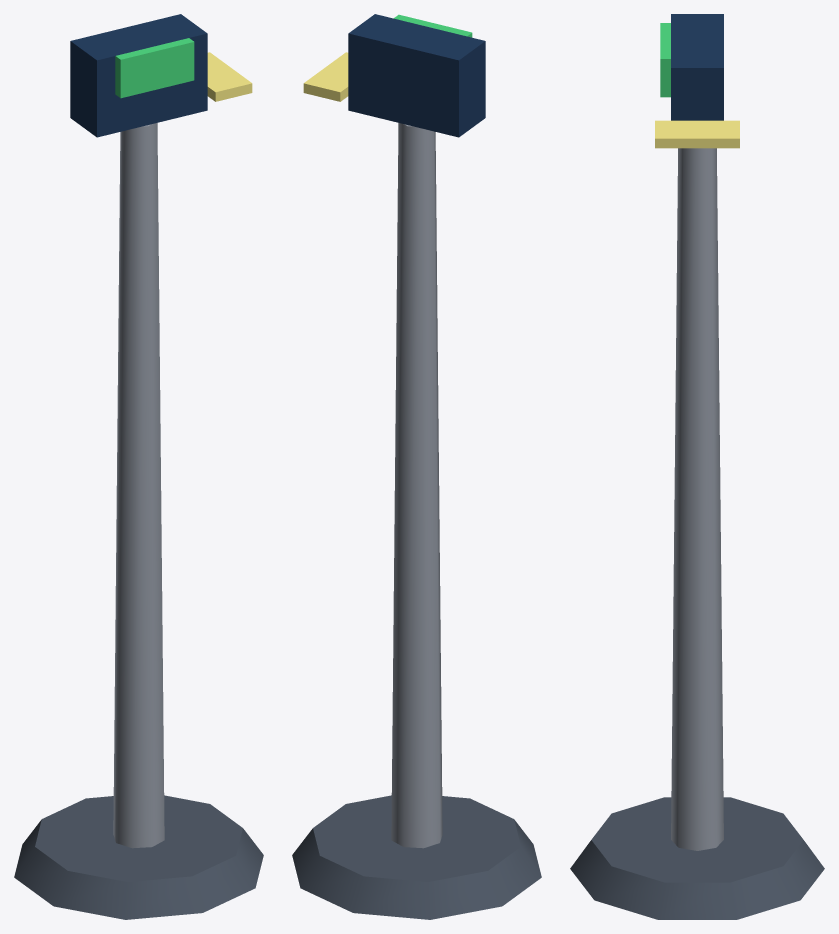
Rendered from parametric-source.glb.
The picture shows the model from 3 angles, left to right: view 1: azimuth 30°, elevation 25°; view 2: azimuth 150°, elevation 25°; view 3: azimuth 270°, elevation 25°; orthographic projection.
Parts seen in each view (by area): view 1: openclinxr.equipment.glucometer_review_equipment.stand, openclinxr.equipment.glucometer_review_equipment.base, openclinxr.equipment.glucometer_review_equipment.device_body, openclinxr.equipment.glucometer_review_equipment.meter_scree, openclinxr.equipment.glucometer_review_equipment.test_strip; view 2: openclinxr.equipment.glucometer_review_equipment.stand, openclinxr.equipment.glucometer_review_equipment.base, openclinxr.equipment.glucometer_review_equipment.device_body, openclinxr.equipment.glucometer_review_equipment.test_strip; view 3: openclinxr.equipment.glucometer_review_equipment.stand, openclinxr.equipment.glucometer_review_equipment.base, openclinxr.equipment.glucometer_review_equipment.device_body, openclinxr.equipment.glucometer_review_equipment.test_strip, openclinxr.equipment.glucometer_review_equipment.meter_scree.
Boxes of the visible parts, left/top/right/bottom form: openclinxr.equipment.glucometer_review_equipment.stand: left=113, top=123, right=164, bottom=848; openclinxr.equipment.glucometer_review_equipment.base: left=14, top=795, right=263, bottom=919; openclinxr.equipment.glucometer_review_equipment.device_body: left=70, top=14, right=207, bottom=137; openclinxr.equipment.glucometer_review_equipment.meter_scree: left=115, top=38, right=194, bottom=98; openclinxr.equipment.glucometer_review_equipment.test_strip: left=207, top=52, right=252, bottom=101; openclinxr.equipment.glucometer_review_equipment.stand: left=391, top=123, right=442, bottom=848; openclinxr.equipment.glucometer_review_equipment.base: left=292, top=795, right=541, bottom=919; openclinxr.equipment.glucometer_review_equipment.device_body: left=348, top=14, right=485, bottom=137; openclinxr.equipment.glucometer_review_equipment.test_strip: left=303, top=52, right=348, bottom=101; openclinxr.equipment.glucometer_review_equipment.stand: left=671, top=148, right=723, bottom=850; openclinxr.equipment.glucometer_review_equipment.base: left=570, top=797, right=824, bottom=919; openclinxr.equipment.glucometer_review_equipment.device_body: left=671, top=14, right=723, bottom=120; openclinxr.equipment.glucometer_review_equipment.test_strip: left=655, top=120, right=739, bottom=148; openclinxr.equipment.glucometer_review_equipment.meter_scree: left=660, top=23, right=670, bottom=97.
Size of the model in its own units: 0.2283 by 0.86 by 0.24.
